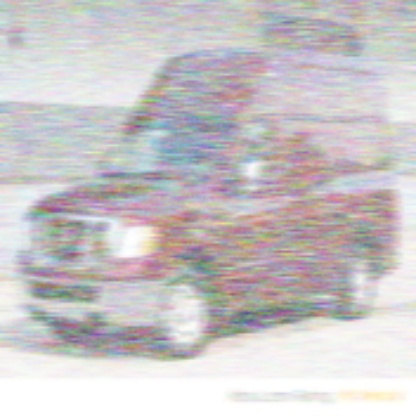Vehicle: (16, 48, 400, 360)
